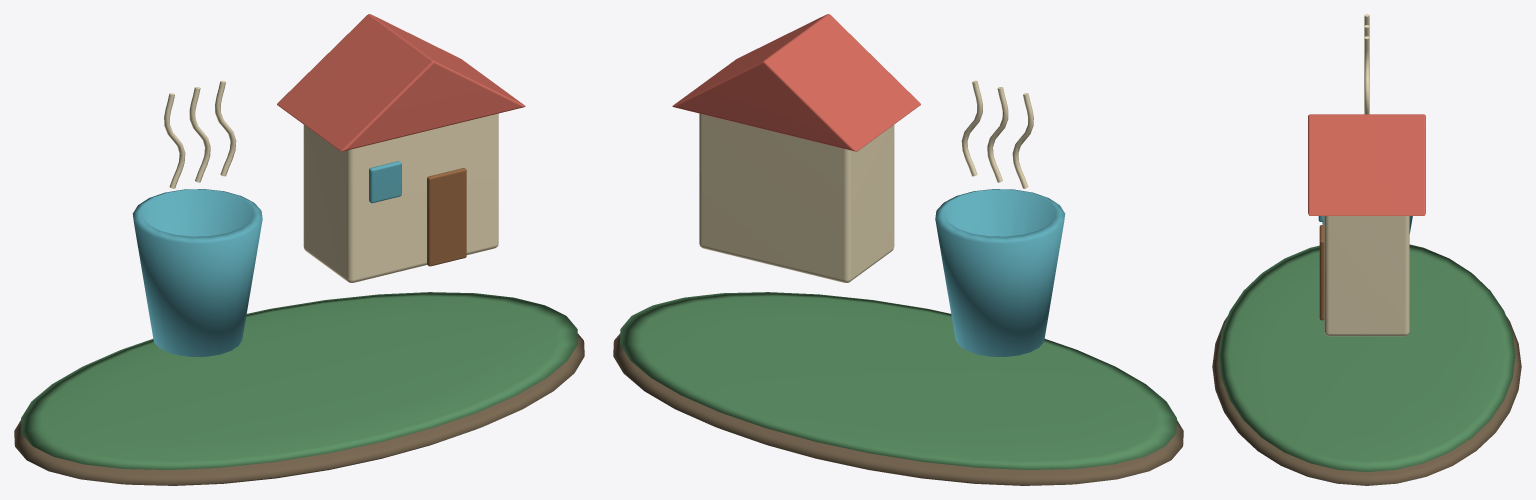
File: cooking-room.glb
3 renders of one model, left to right at view 1: azimuth 30°, elevation 25°; view 2: azimuth 150°, elevation 25°; view 3: azimuth 270°, elevation 25°, orthographic. The views are drawn at different scales.
Visible parts, largest first — view 1: cooking-room_surface_01, cooking-room_surface_03, cooking-room_surface_02, cooking-room_surface_04, cooking-room_surface_00, cooking-room_surface_05; view 2: cooking-room_surface_01, cooking-room_surface_03, cooking-room_surface_04, cooking-room_surface_02, cooking-room_surface_00; view 3: cooking-room_surface_01, cooking-room_surface_04, cooking-room_surface_03, cooking-room_surface_00, cooking-room_surface_05.
Part boxes in pixels (bbox=[...]): cooking-room_surface_01: bbox=[21, 292, 577, 469]; cooking-room_surface_03: bbox=[164, 80, 498, 282]; cooking-room_surface_02: bbox=[132, 161, 401, 356]; cooking-room_surface_04: bbox=[277, 14, 525, 151]; cooking-room_surface_00: bbox=[14, 333, 584, 485]; cooking-room_surface_05: bbox=[427, 168, 466, 266]; cooking-room_surface_01: bbox=[620, 292, 1176, 469]; cooking-room_surface_03: bbox=[699, 80, 1033, 282]; cooking-room_surface_04: bbox=[672, 14, 920, 151]; cooking-room_surface_02: bbox=[935, 189, 1065, 356]; cooking-room_surface_00: bbox=[613, 333, 1183, 485]; cooking-room_surface_01: bbox=[1218, 244, 1515, 471]; cooking-room_surface_04: bbox=[1308, 114, 1425, 215]; cooking-room_surface_03: bbox=[1324, 14, 1409, 336]; cooking-room_surface_00: bbox=[1212, 316, 1521, 485]; cooking-room_surface_05: bbox=[1319, 225, 1324, 320].
Bounding box in the file's own units: 4.56 × 2.77 × 2.5.
